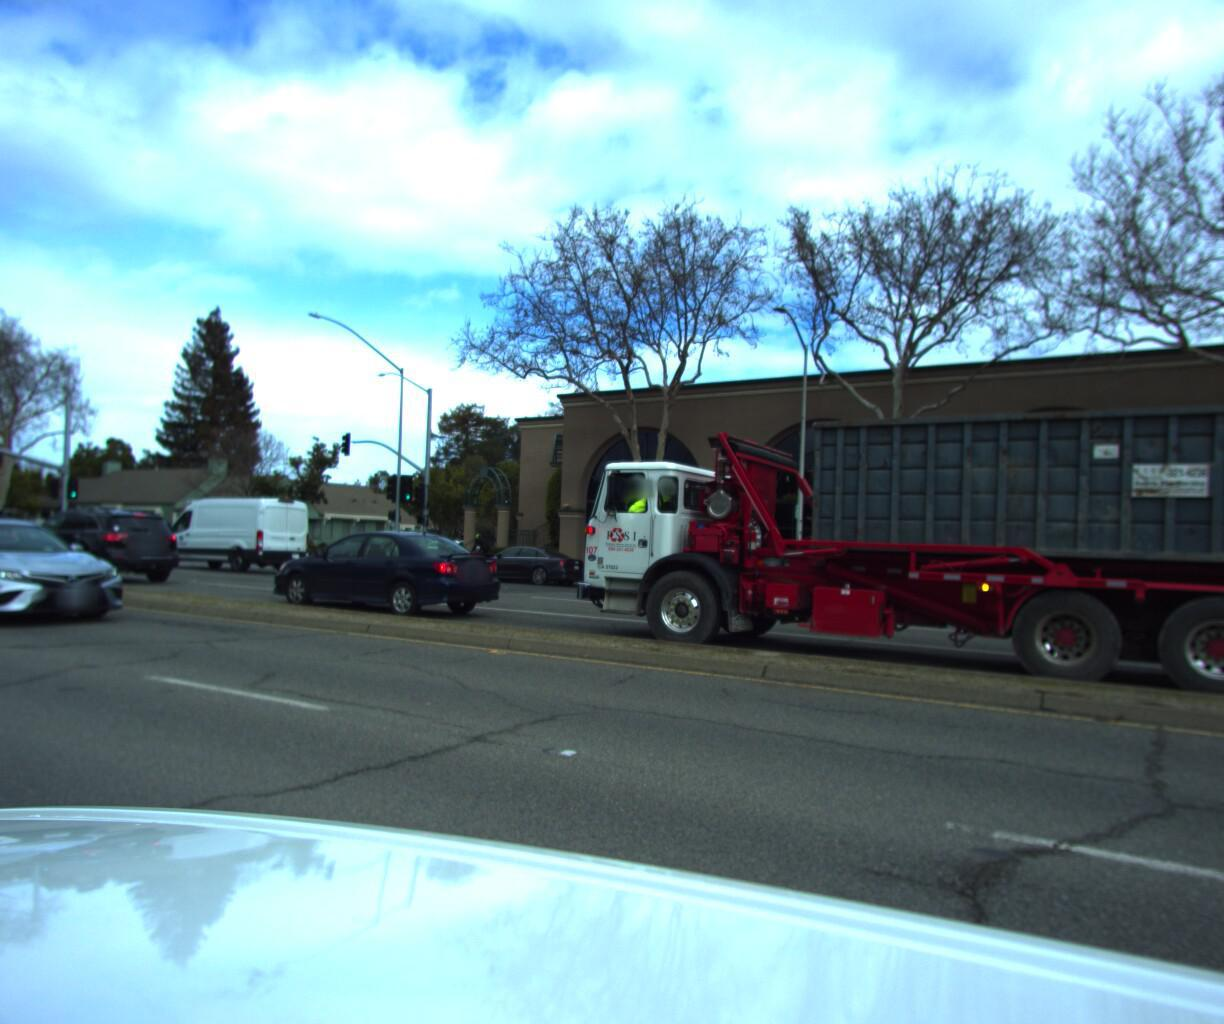car: (267, 524, 507, 622), (0, 513, 145, 637), (0, 501, 187, 585), (146, 491, 312, 574), (461, 541, 587, 586), (0, 497, 26, 568)
truck: (567, 384, 1224, 759)
